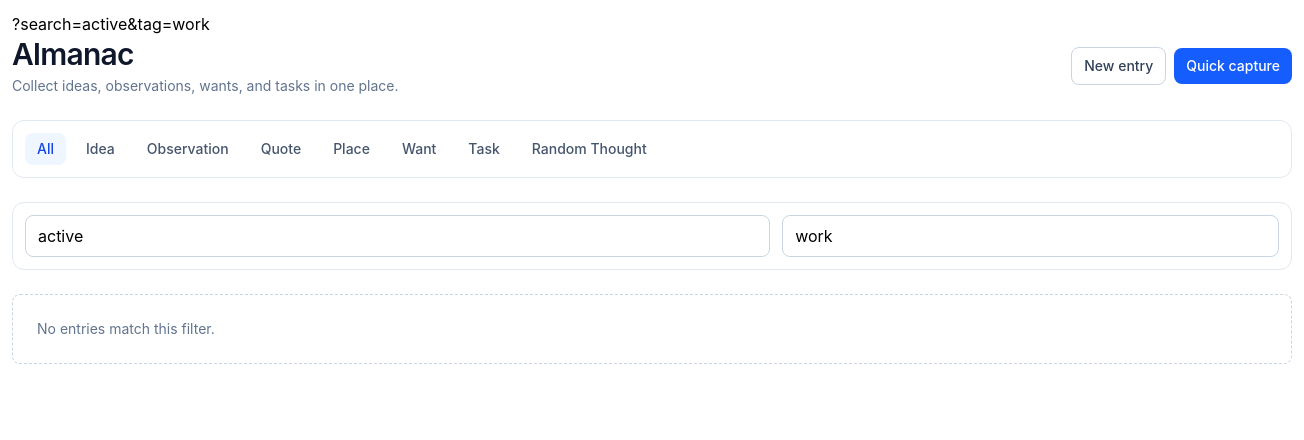
Test: almanac coverage-critical files › almanac page handles fallback list data, nullish body, and tab filter values
The image size is (1304, 440).
Check: the text "No entries match this filter." is shown, box [12,294,1292,364]
Step 1. Clear the 1st field with placeholder "Search title, body, tags..." → (398, 236), box [25,215,770,257]
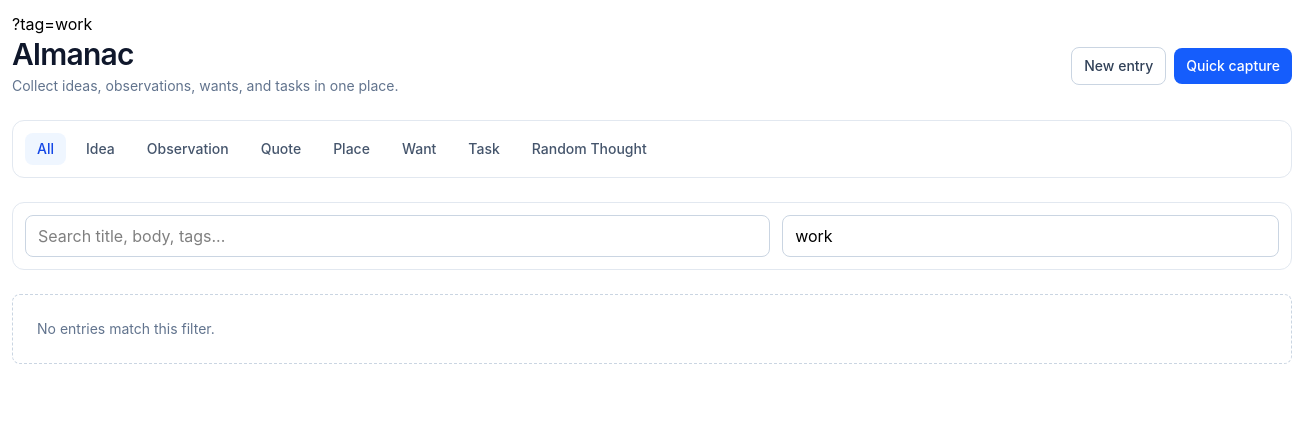
Step 2. Clear the field with placeholder "Filter by tag..." → (1031, 236), box [782,215,1279,257]
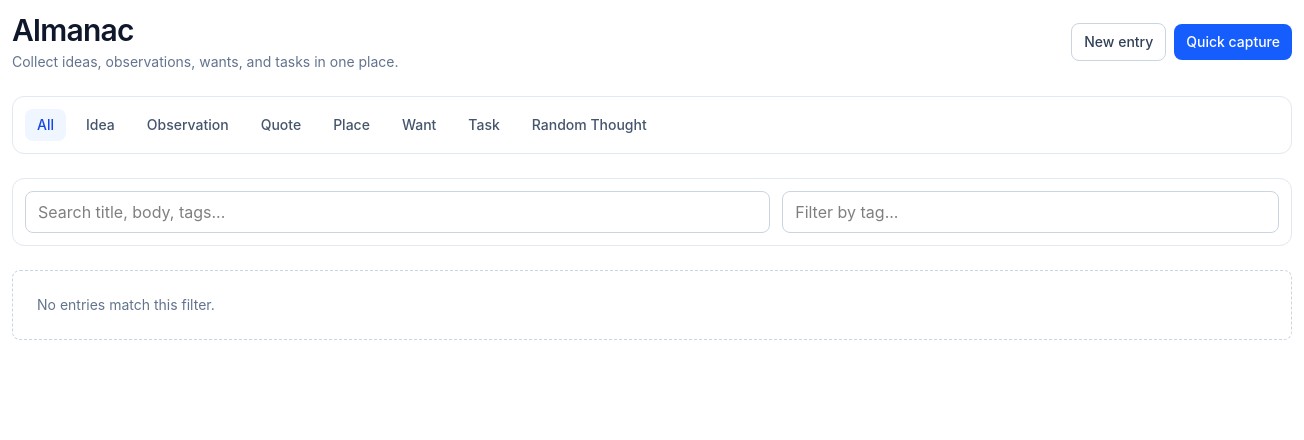
Step 3. Click the button "Idea" → (100, 125), box [74,109,127,141]
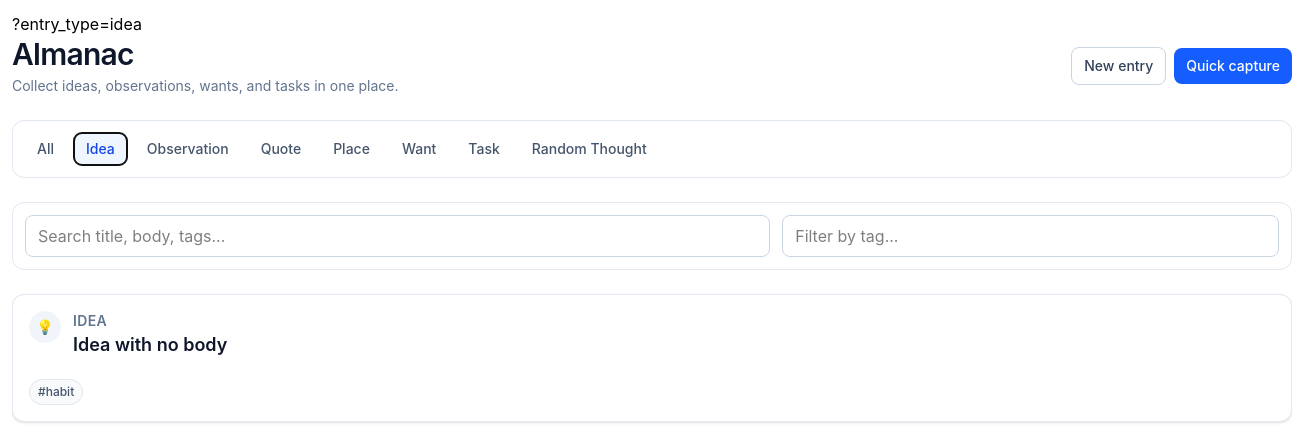
Check: the heading "Idea with no body" is shown, box [73,331,227,359]
Step 4. Type "active" into the field with placeholder "Search title, body, tags..." → (398, 236), box [25,215,770,257]
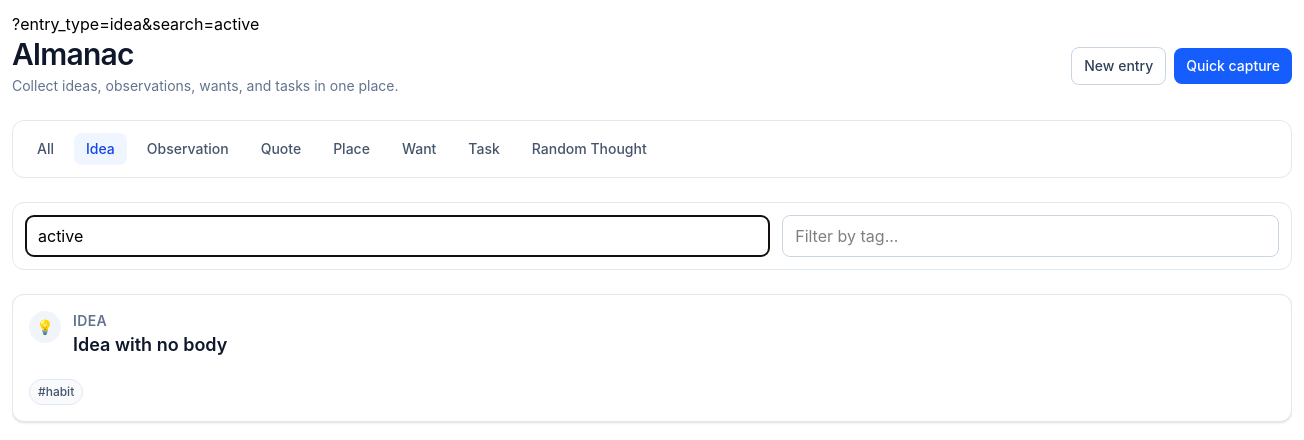
Check: the text with test id "search" shows "search=active", box [12,14,259,34]
Step 5. Click the button "All" → (46, 149), box [25,133,66,165]
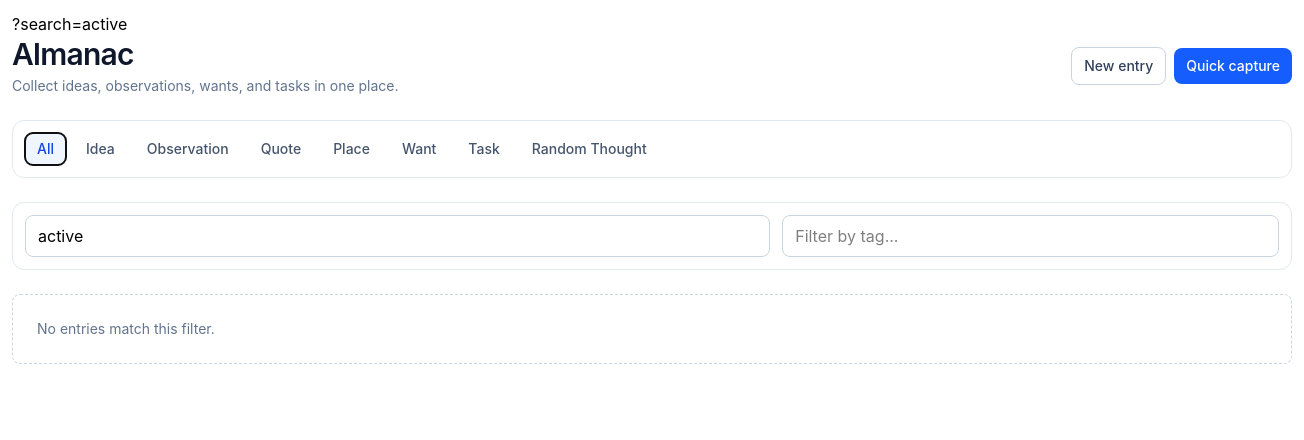
Check: the text "No entries match this filter." is shown, box [12,294,1292,364]
